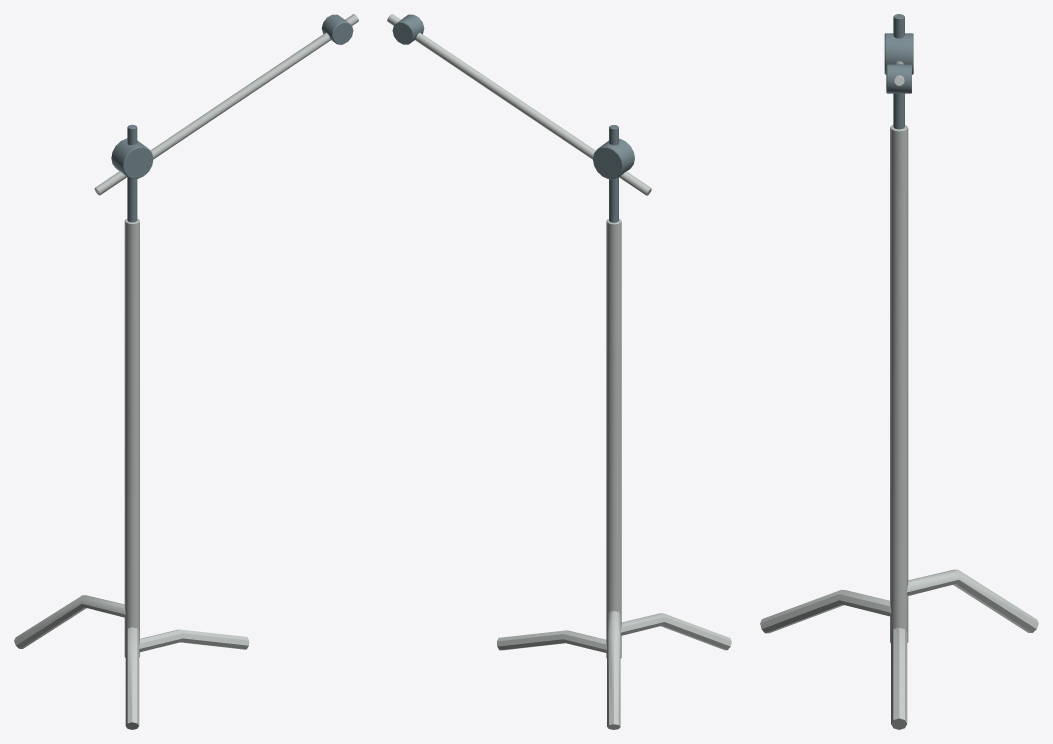
The model's file is c-stand.glb.
3 renders of one model, left to right at view 1: azimuth 30°, elevation 25°; view 2: azimuth 150°, elevation 25°; view 3: azimuth 270°, elevation 25°, orthographic. The views are drawn at different scales.
Visible parts, largest first — view 1: riser, grip_arm, turtle_leg_2, turtle_leg_0, turtle_leg_1, grip_head, extension, end_grip; view 2: riser, grip_arm, turtle_leg_2, turtle_leg_1, turtle_leg_0, grip_head, end_grip, extension; view 3: riser, turtle_leg_2, turtle_leg_1, turtle_leg_0, grip_head, extension, end_grip.
Part boxes in pixels (x1,y1,x2,y2): riser: (124,218,139,657); grip_arm: (94,14,358,195); turtle_leg_2: (14,595,125,648); turtle_leg_0: (139,629,249,652); turtle_leg_1: (125,627,139,729); grip_head: (111,138,153,178); extension: (127,124,137,222); end_grip: (321,14,353,44); riser: (606,219,621,658); grip_arm: (387,14,651,195); turtle_leg_2: (607,611,620,729); turtle_leg_1: (620,613,731,650); turtle_leg_0: (497,630,606,652); grip_head: (593,138,634,179); end_grip: (392,14,424,44); extension: (609,125,618,222); riser: (890,124,908,642); turtle_leg_2: (906,569,1038,632); turtle_leg_1: (760,589,891,633); turtle_leg_0: (891,628,907,729); grip_head: (884,33,913,74); extension: (893,14,904,129); end_grip: (886,64,911,93).
Size of the model in its own units: 1.22 by 2.46 by 0.8667.
